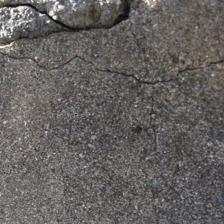Crack: (198, 124, 224, 156), (89, 65, 133, 82)
